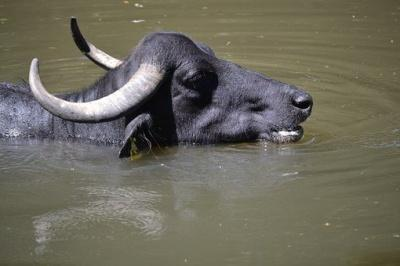buffalo: (0, 18, 312, 157)
